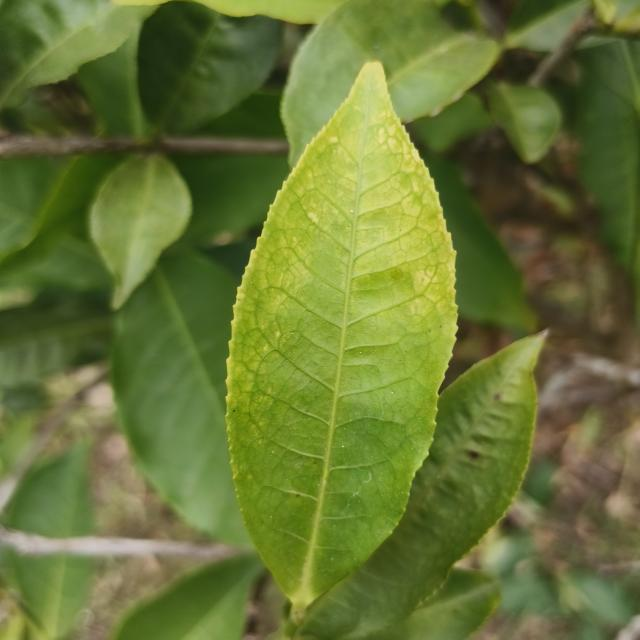Leaf: (227, 63, 456, 619), (300, 334, 543, 640), (111, 251, 253, 546), (282, 0, 498, 165), (424, 156, 536, 333), (138, 1, 283, 134), (577, 39, 640, 326), (0, 0, 154, 109), (90, 155, 192, 309), (112, 554, 264, 640), (367, 569, 500, 640), (3, 443, 93, 538), (0, 549, 93, 640), (488, 83, 561, 163), (505, 0, 588, 51)
